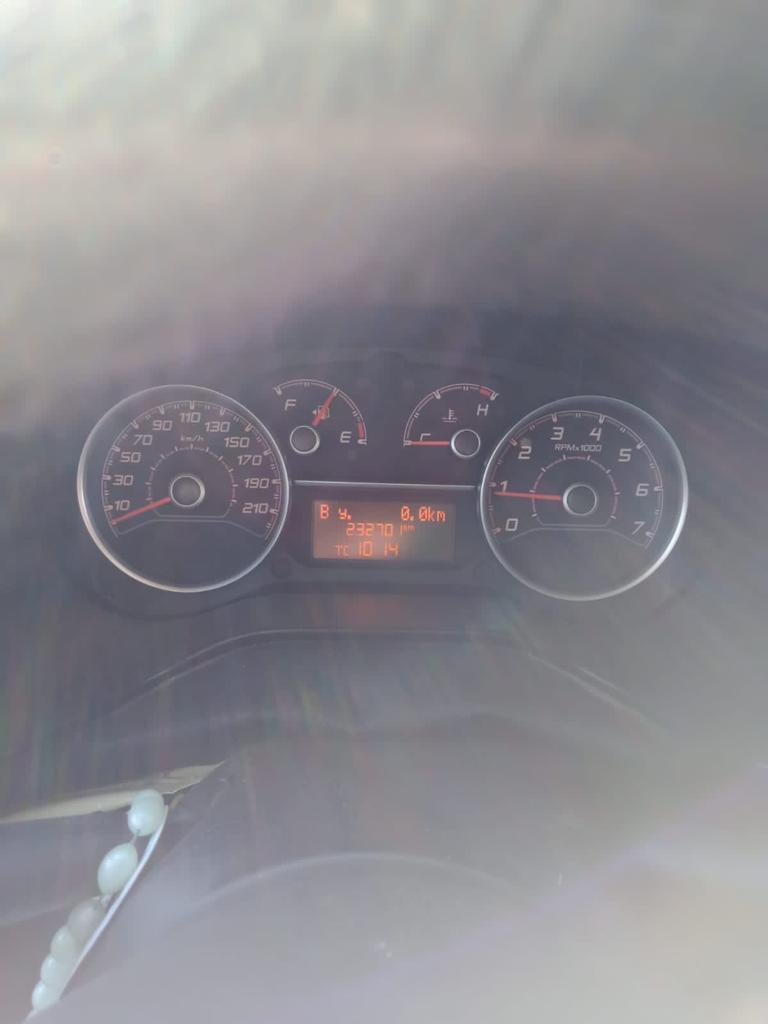,: (409, 513, 415, 521), (347, 513, 352, 520)
0: (362, 539, 373, 558), (399, 504, 409, 521), (418, 504, 427, 521), (384, 522, 394, 537)
1: (382, 541, 388, 558), (356, 541, 361, 556)
2: (364, 521, 375, 536), (344, 521, 355, 536)
3: (355, 521, 364, 537)
4: (388, 541, 400, 558)
7: (375, 522, 384, 536), (333, 542, 342, 556)
X: (318, 503, 330, 519), (336, 505, 347, 520), (427, 504, 435, 522), (436, 509, 447, 522), (342, 543, 349, 556), (399, 522, 406, 534), (406, 523, 415, 532)
odometer: (303, 495, 462, 568)
